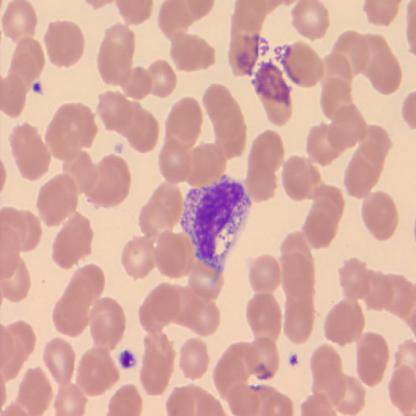Metamyelocyte: (179, 171, 252, 280)
